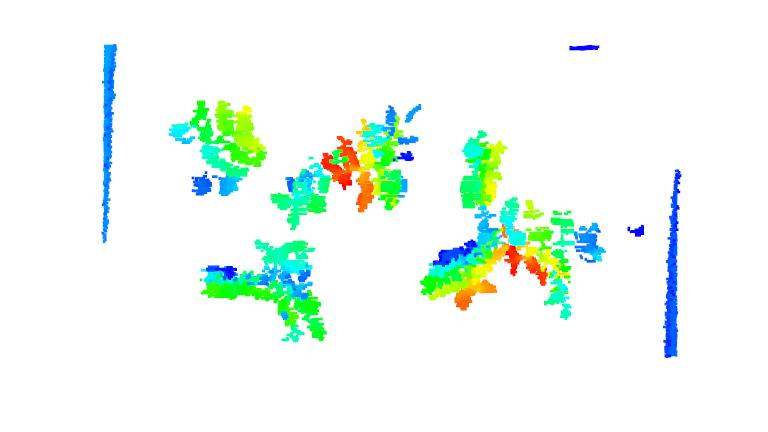chickpea: (186, 233, 329, 343), (166, 85, 271, 207), (344, 103, 431, 215), (279, 95, 347, 231), (502, 193, 573, 322), (423, 234, 497, 321), (448, 116, 501, 211)
